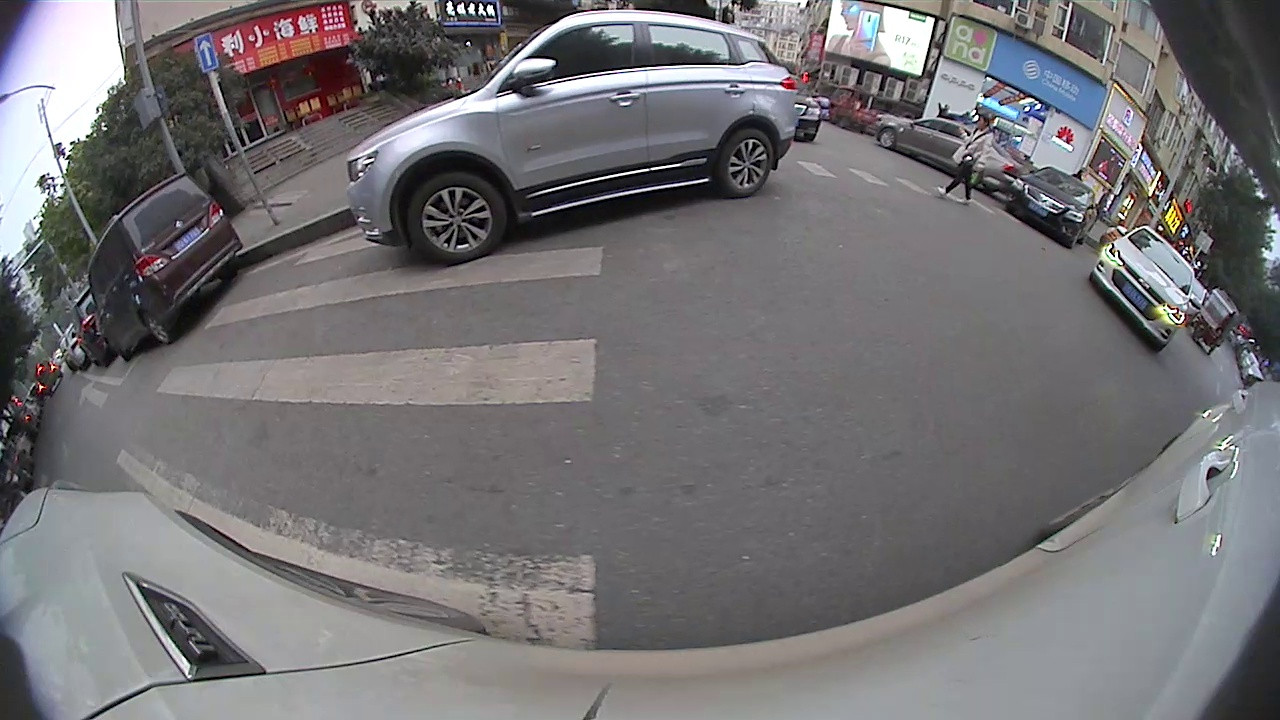car: (342, 7, 804, 267), (84, 167, 244, 365), (1084, 220, 1204, 358), (870, 113, 1026, 190), (1007, 167, 1100, 253)
front: (404, 174, 509, 262), (878, 124, 900, 149)
person: (962, 111, 992, 202)
rear: (717, 131, 780, 197), (135, 311, 176, 348)
rider: (1189, 287, 1238, 358)
